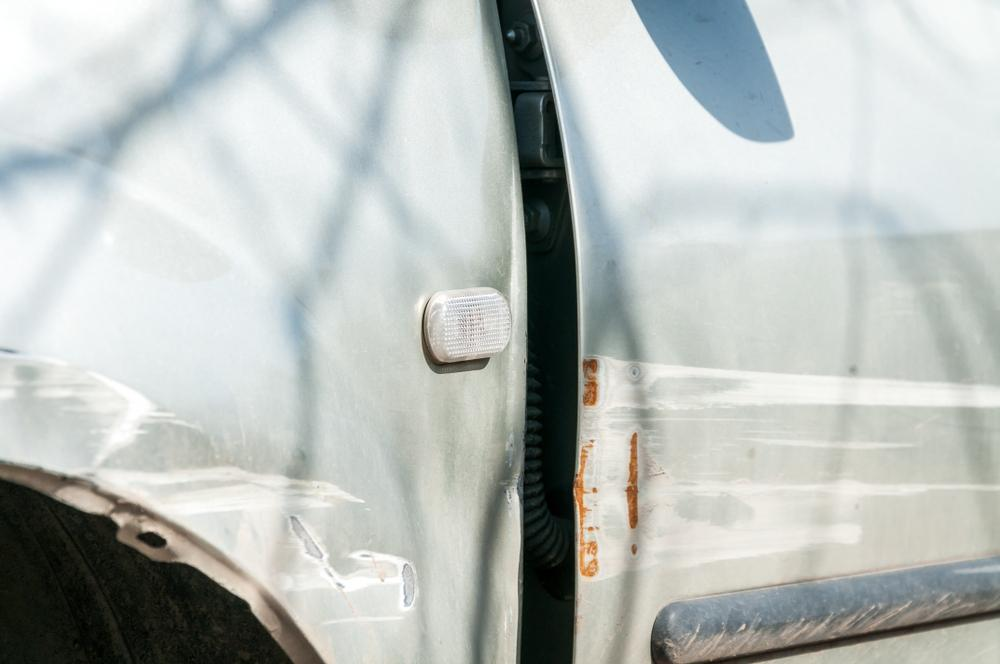scratch: (0, 345, 424, 623), (570, 351, 1000, 584)
